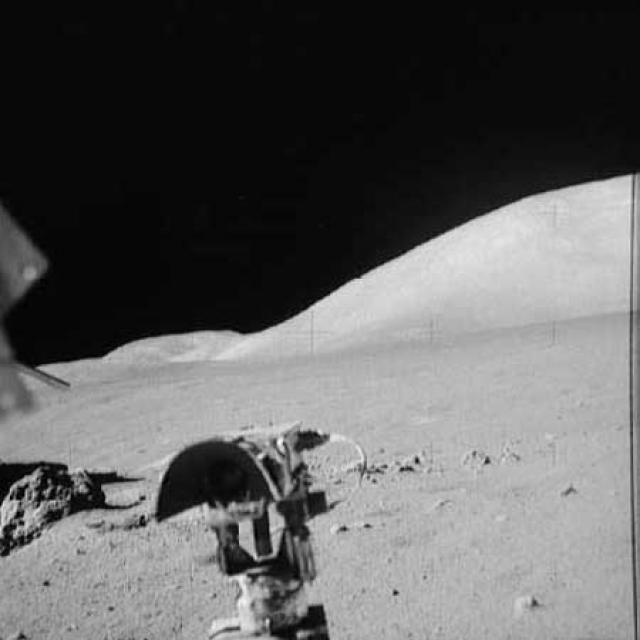artifact: (140, 422, 353, 639), (0, 208, 84, 391)
rock: (1, 445, 108, 556), (508, 592, 540, 617)
